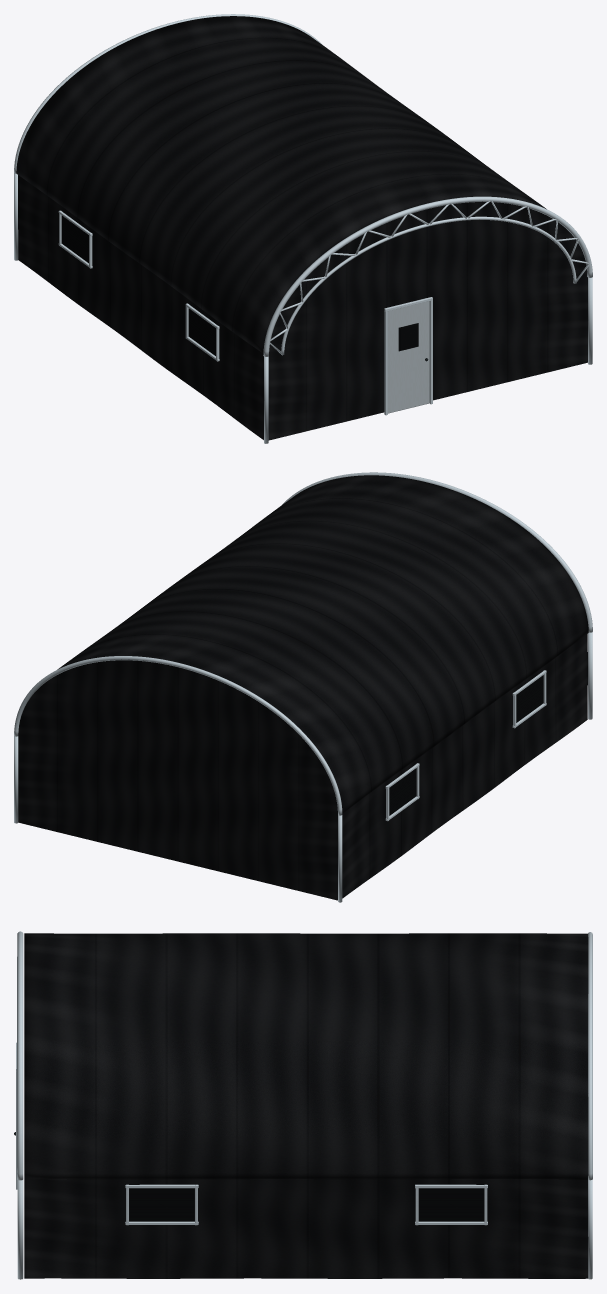
Rendered from SnowFieldShelter.glb.
3 views of the same model, one above another, from view 1: azimuth 30°, elevation 25°; view 2: azimuth 150°, elevation 25°; view 3: azimuth 270°, elevation 25° (orthographic). The views are drawn at different scales.
Visible parts, largest first — view 1: Shelter_Charcoal_insulated_fabric, Shelter_White_painted_aluminum, Shelter_Off-white_steel_door, Shelter_Dark_sealed_window; view 2: Shelter_Charcoal_insulated_fabric, Shelter_White_painted_aluminum, Shelter_Dark_sealed_window; view 3: Shelter_Charcoal_insulated_fabric, Shelter_White_painted_aluminum, Shelter_Dark_sealed_window.
Boxes of the visible parts, <box> form: Shelter_Charcoal_insulated_fabric: <box>16,16,587,440</box>; Shelter_White_painted_aluminum: <box>14,14,592,443</box>; Shelter_Off-white_steel_door: <box>388,301,429,413</box>; Shelter_Dark_sealed_window: <box>61,215,417,355</box>; Shelter_Charcoal_insulated_fabric: <box>18,475,588,900</box>; Shelter_White_painted_aluminum: <box>14,472,592,902</box>; Shelter_Dark_sealed_window: <box>389,675,543,815</box>; Shelter_Charcoal_insulated_fabric: <box>24,933,588,1278</box>; Shelter_White_painted_aluminum: <box>16,931,592,1279</box>; Shelter_Dark_sealed_window: <box>129,1188,483,1220</box>.
Bounding box in the file's own units: 24.56 × 14.23 × 32.8.
7 materials, 7 textured.
